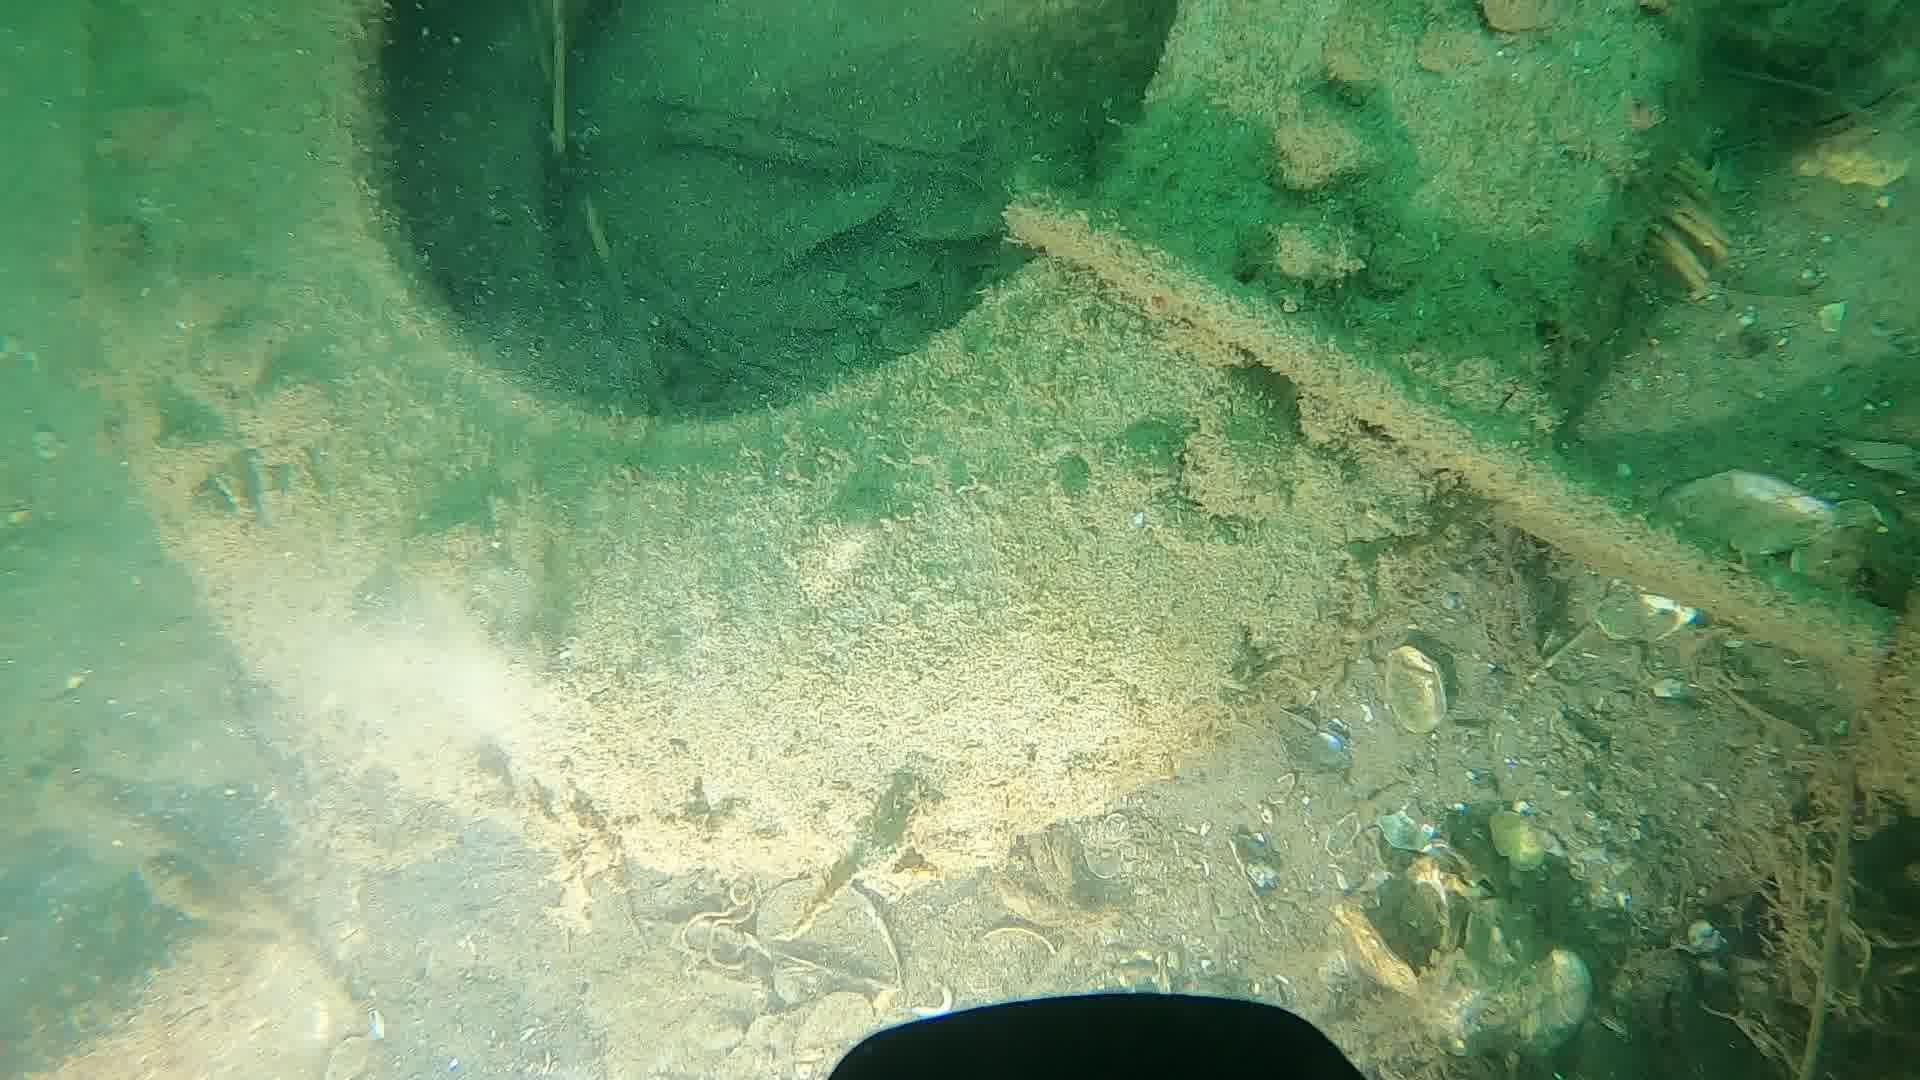tire: (78, 1, 1700, 877)
